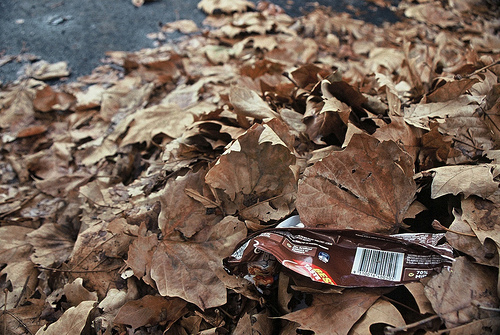litter: (222, 213, 455, 288)
